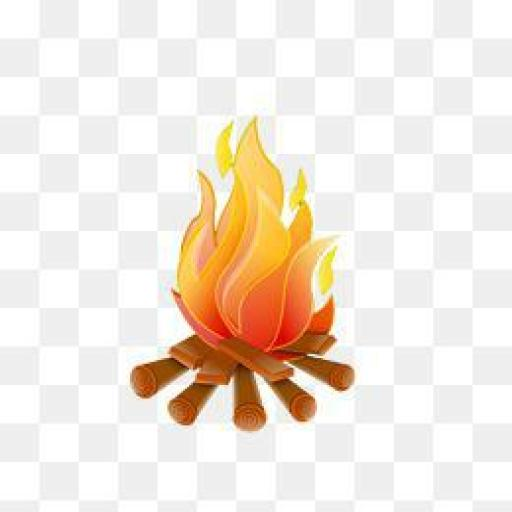fire: (142, 89, 354, 348)
